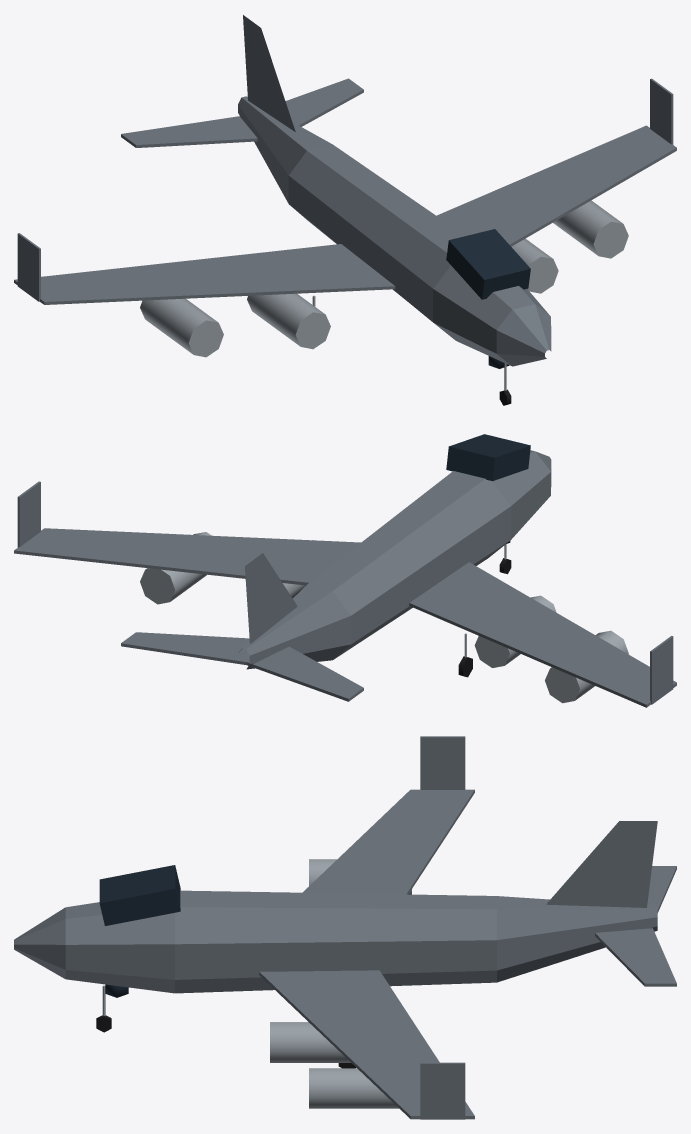
The model's file is veh_air_airliner_a08.glb.
3 renders of one model, top to bottom at view 1: azimuth 30°, elevation 25°; view 2: azimuth 150°, elevation 25°; view 3: azimuth 270°, elevation 25°, orthographic. The views are drawn at different scales.
Parts seen in each view (by area): view 1: body; view 2: body; view 3: body.
Part boxes in pixels (box(x1,y1,x2,y2)): body: box(14, 15, 676, 368); body: box(14, 434, 676, 707); body: box(14, 736, 676, 1119).
Size of what is drawn, in the model's own units: 26.24 by 7.88 by 22.45.
